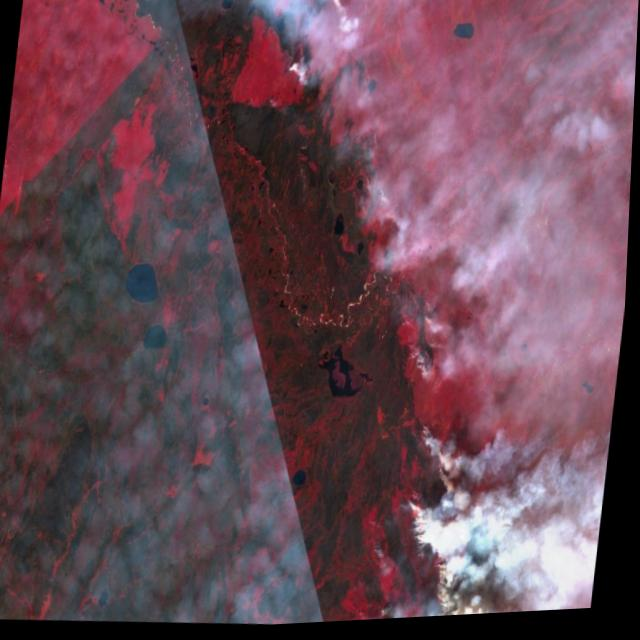fire: (198, 0, 537, 631)
